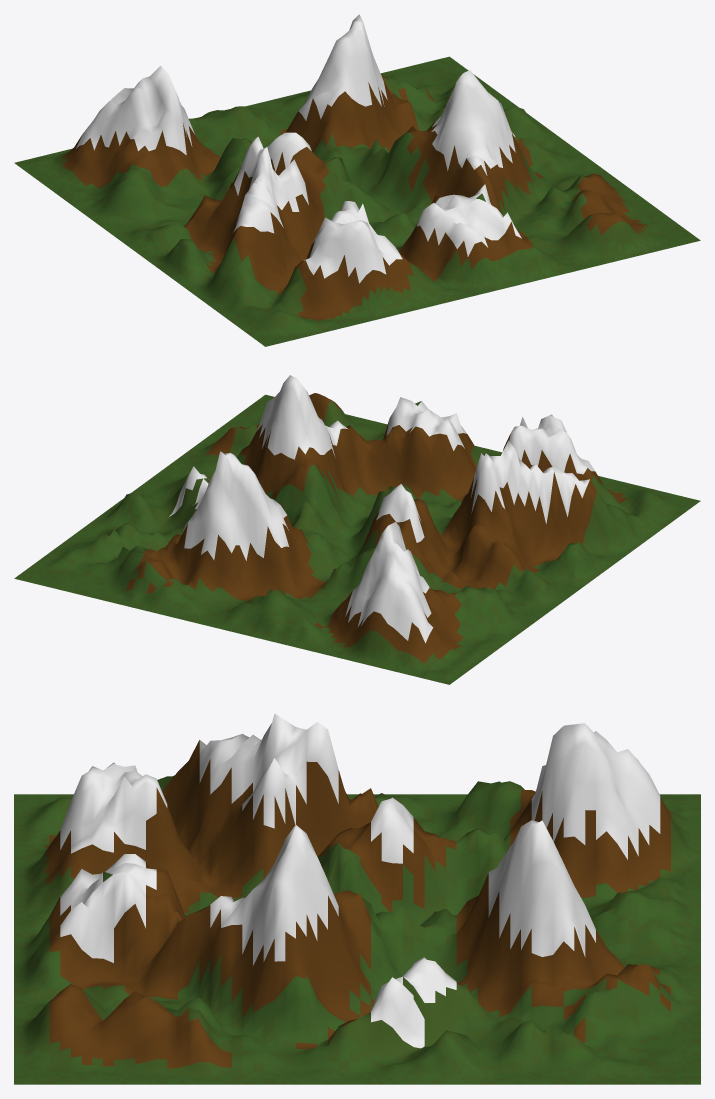
File: S0.mountain.9.glb
3 renders of one model, top to bottom at view 1: azimuth 30°, elevation 25°; view 2: azimuth 150°, elevation 25°; view 3: azimuth 270°, elevation 25°, orthographic. The views are drawn at different scales.
Visible parts, largest first — view 1: Landscape.00b; view 2: Landscape.00b; view 3: Landscape.00b.
Part boxes in pixels (x1,y1,x2,y2): Landscape.00b: (14,14,700,346); Landscape.00b: (14,375,700,684); Landscape.00b: (14,713,700,1084).
Size of the model in its own units: 303 by 83.97 by 303.
